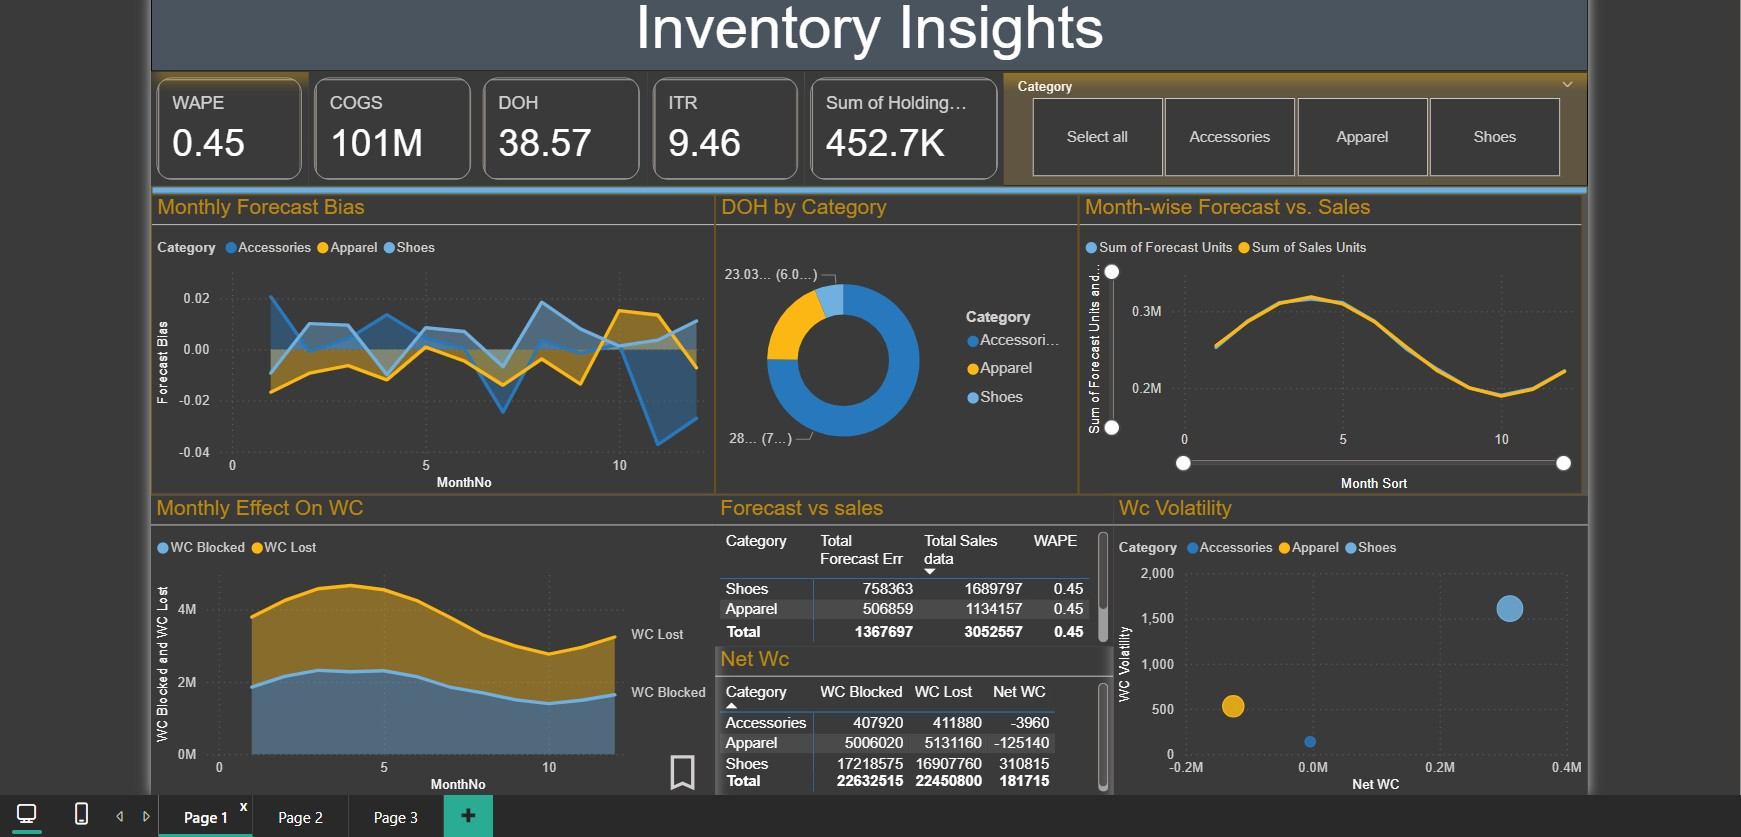

The page's visual inventory and layout, read from the dashboard file:
{"tool":"powerbi","page":{"name":"Page 1","canvas":[1280,720],"ordinal":0},"visuals":[{"type":"cardVisual","fields":{"Data":["Warehouse Data.WAPE"]},"box":[0,75.5,140,101.5],"z":0},{"type":"areaChart","title":"Monthly Forecast Bias","fields":{"Category":["Warehouse Data.MonthNo"],"Y":["Warehouse Data.Forecast Bias"],"Series":["Warehouse Data.Category"]},"box":[0,185.2,502.2,267.6],"z":1000},{"type":"pivotTable","title":"Net Wc","fields":{"Rows":["Warehouse Data.Category"],"Values":["Warehouse Data.WC Blocked","Warehouse Data.WC Lost","Warehouse Data.Net WC"]},"box":[502.2,587.3,355.4,133.1],"z":2000},{"type":"lineChart","title":"Month-wise Forecast vs. Sales","fields":{"Y":["Sum(Warehouse Data.Forecast Units)","Sum(Warehouse Data.Sales Units)"],"Category":["Calendar.Month Sort"]},"box":[826.1,185.2,448.7,267.6],"z":3000},{"type":"stackedAreaChart","title":"Monthly Effect On WC","fields":{"Category":["Warehouse Data.MonthNo"],"Y":["Warehouse Data.WC Blocked","Warehouse Data.WC Lost"]},"box":[0,452.8,502.2,267.6],"z":4000},{"type":"slicer","fields":{"Values":["Warehouse Data.Category"]},"box":[758.3,75.5,521.7,101.2],"z":5000},{"type":"scatterChart","title":"Wc Volatility","fields":{"X":["Warehouse Data.Net WC"],"Y":["Warehouse Data.WC Volatility"],"Size":["Sum(Warehouse Data.Sales Units)"],"Series":["Warehouse Data.Category"]},"box":[857.6,452.8,422.6,267.6],"z":6000},{"type":"textbox","box":[0,0,1280,75.5],"z":7000},{"type":"cardVisual","fields":{"Data":["Warehouse Data.COGS"]},"box":[140,75.5,150.9,101.5],"z":8000},{"type":"cardVisual","fields":{"Data":["Warehouse Data.DOH"]},"box":[290.9,75.5,150.9,101.5],"z":9000},{"type":"donutChart","fields":{"Y":["Warehouse Data.DOH"],"Category":["Warehouse Data.Category"]},"box":[502.2,185.2,323.8,267.6],"z":10000},{"type":"cardVisual","fields":{"Data":["Warehouse Data.ITR"]},"box":[441.9,75.5,140,101.5],"z":11000},{"type":"cardVisual","title":"Holding cost","fields":{"Data":["Sum(Warehouse Data.Holding Cost)"]},"box":[581.8,75.5,177,101.5],"z":12000},{"type":"shape","box":[0,177,1280.3,8.2],"z":13000},{"type":"pivotTable","title":"Forecast vs sales","fields":{"Values":["Warehouse Data.Total Forecast Err","Warehouse Data.Total Sales data","Warehouse Data.WAPE"],"Rows":["Warehouse Data.Category"]},"box":[502.2,452.8,355.4,134.5],"z":14000},{"type":"actionButton","box":[452.8,679.1,49.4,40.9],"z":15000}]}

Visuals, with their boxes on the page's 1280x720 design canvas (x1, y1, x2, y2). These are canvas units, not pixel positions in the 1741x837 screenshot, which may show the page scaled, cropped or inside an application window:
cardVisual - Warehouse Data.WAPE: crop(0, 76, 140, 177)
"Monthly Forecast Bias" areaChart: crop(0, 185, 502, 453)
"Net Wc" pivotTable: crop(502, 587, 858, 720)
"Month-wise Forecast vs. Sales" lineChart: crop(826, 185, 1275, 453)
"Monthly Effect On WC" stackedAreaChart: crop(0, 453, 502, 720)
slicer - Warehouse Data.Category: crop(758, 76, 1280, 177)
"Wc Volatility" scatterChart: crop(858, 453, 1280, 720)
textbox: crop(0, 0, 1280, 76)
cardVisual - Warehouse Data.COGS: crop(140, 76, 291, 177)
cardVisual - Warehouse Data.DOH: crop(291, 76, 442, 177)
donutChart - Warehouse Data.DOH x Warehouse Data.Category: crop(502, 185, 826, 453)
cardVisual - Warehouse Data.ITR: crop(442, 76, 582, 177)
"Holding cost" cardVisual: crop(582, 76, 759, 177)
shape: crop(0, 177, 1280, 185)
"Forecast vs sales" pivotTable: crop(502, 453, 858, 587)
actionButton: crop(453, 679, 502, 720)
